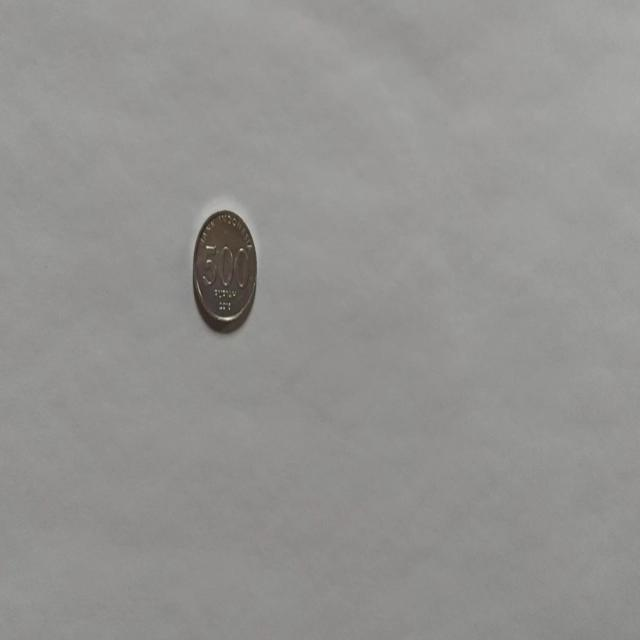lima ratus rupiah: (192, 208, 258, 332)
